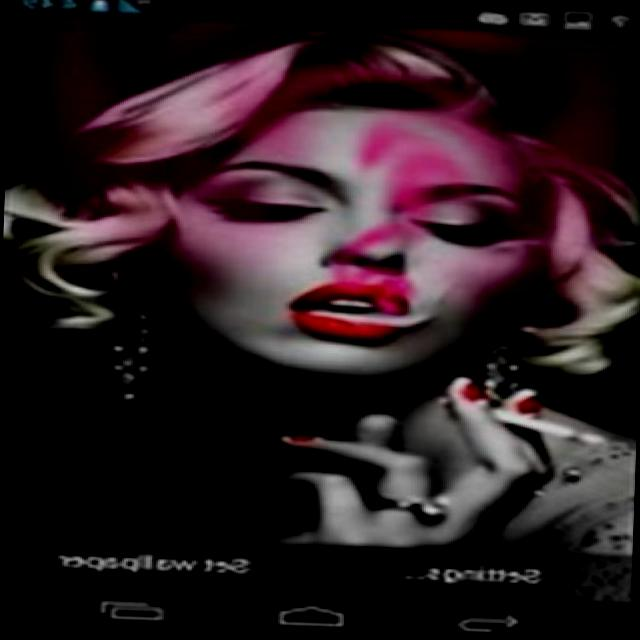smoke: (492, 408, 606, 446)
